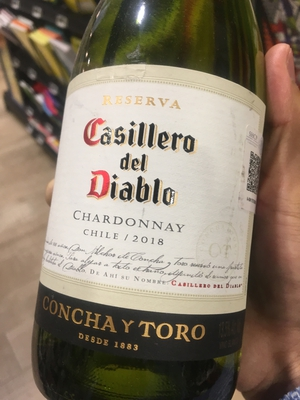casillero del diablo chardonnay: (25, 9, 273, 399)
